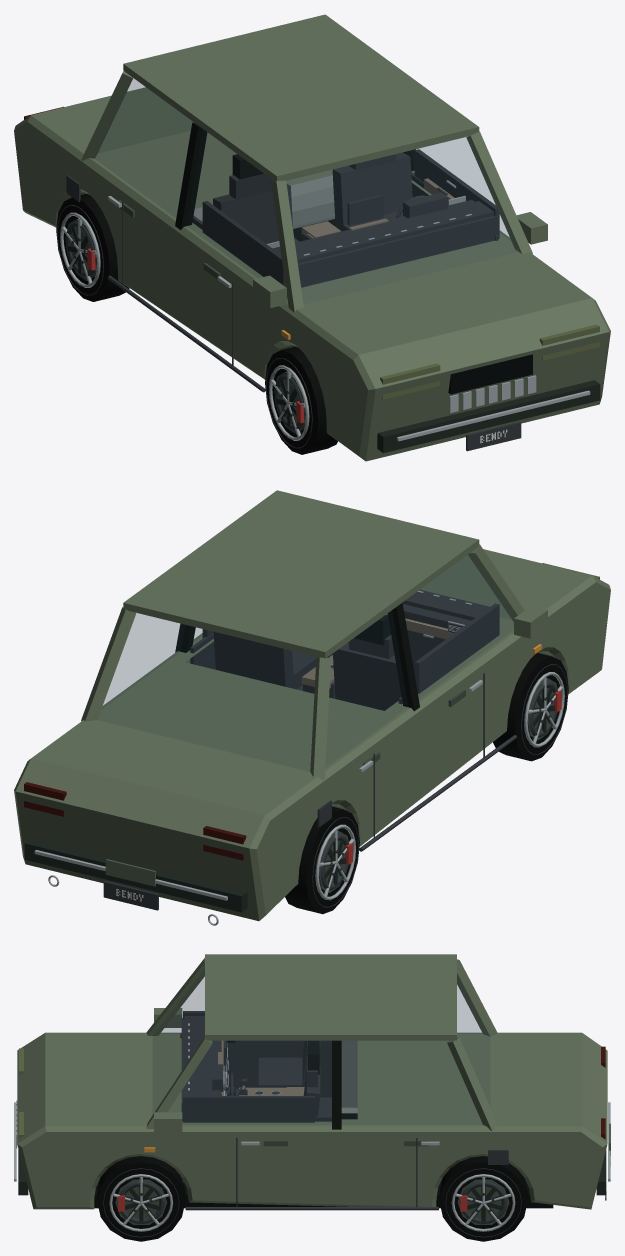
The picture shows the model from 3 angles, top to bottom: view 1: azimuth 30°, elevation 25°; view 2: azimuth 150°, elevation 25°; view 3: azimuth 270°, elevation 25°; orthographic projection. The views are drawn at different scales.
Parts seen in each view (by area): view 1: body, windows, cabin-detail-trim, close-detail-detail-trim, wheel-mesh_2, wheel-mesh, close-detail-detail-alloy, legacy-body-lining, wheel-rear-right-fittings-detail-alloy, wheel-front-right-fittings-detail-alloy, cabin-cabin-trim, wheel-front-right-fittings-detail-trim (+1 smaller); view 2: body, windows, close-detail-detail-trim, cabin-detail-trim, wheel-mesh_2, wheel-mesh, close-detail-detail-alloy, wheel-front-right-fittings-detail-alloy, wheel-rear-right-fittings-detail-alloy, cabin-cabin-trim, wheel-front-right-fittings-detail-trim, wheel-rear-right-fittings-detail-trim; view 3: body, windows, cabin-detail-trim, wheel-mesh_3, wheel-mesh_1, close-detail-detail-trim, legacy-body-lining, wheel-rear-left-fittings-detail-alloy, wheel-front-left-fittings-detail-alloy, wheel-rear-left-fittings-detail-trim, wheel-front-left-fittings-detail-trim, close-detail-detail-alloy (+1 smaller).
Part boxes in pixels (<box>): body: <box>14,14,610,461</box>; windows: <box>95,78,517,303</box>; cabin-detail-trim: <box>192,149,499,287</box>; close-detail-detail-trim: <box>66,152,521,451</box>; wheel-mesh_2: <box>265,346,337,454</box>; wheel-mesh: <box>56,194,129,301</box>; close-detail-detail-alloy: <box>108,196,590,441</box>; legacy-body-lining: <box>193,175,334,228</box>; wheel-rear-right-fittings-detail-alloy: <box>60,212,100,287</box>; wheel-front-right-fittings-detail-alloy: <box>269,365,309,440</box>; cabin-cabin-trim: <box>301,178,454,238</box>; wheel-front-right-fittings-detail-trim: <box>265,358,312,448</box>; body: <box>14,490,610,921</box>; windows: <box>98,553,514,770</box>; close-detail-detail-trim: <box>103,632,516,910</box>; cabin-detail-trim: <box>190,589,499,704</box>; wheel-mesh_2: <box>493,653,568,761</box>; wheel-mesh: <box>285,806,359,914</box>; close-detail-detail-alloy: <box>34,680,482,925</box>; wheel-front-right-fittings-detail-alloy: <box>524,672,564,747</box>; wheel-rear-right-fittings-detail-alloy: <box>315,824,355,900</box>; cabin-cabin-trim: <box>301,614,453,688</box>; wheel-front-right-fittings-detail-trim: <box>521,664,567,754</box>; wheel-rear-right-fittings-detail-trim: <box>312,817,359,907</box>; body: <box>17,954,610,1209</box>; windows: <box>153,970,489,1124</box>; cabin-detail-trim: <box>180,1011,331,1182</box>; wheel-mesh_3: <box>97,1156,185,1241</box>; wheel-mesh_1: <box>439,1156,527,1241</box>; close-detail-detail-trim: <box>185,1040,508,1210</box>; legacy-body-lining: <box>226,1040,357,1113</box>; wheel-rear-left-fittings-detail-alloy: <box>451,1174,515,1231</box>; wheel-front-left-fittings-detail-alloy: <box>109,1174,172,1231</box>; wheel-rear-left-fittings-detail-trim: <box>445,1168,521,1237</box>; wheel-front-left-fittings-detail-trim: <box>103,1168,179,1237</box>; close-detail-detail-alloy: <box>14,1100,610,1200</box>.
Bounding box in the file's own units: 2.15 × 1.78 × 4.88.
